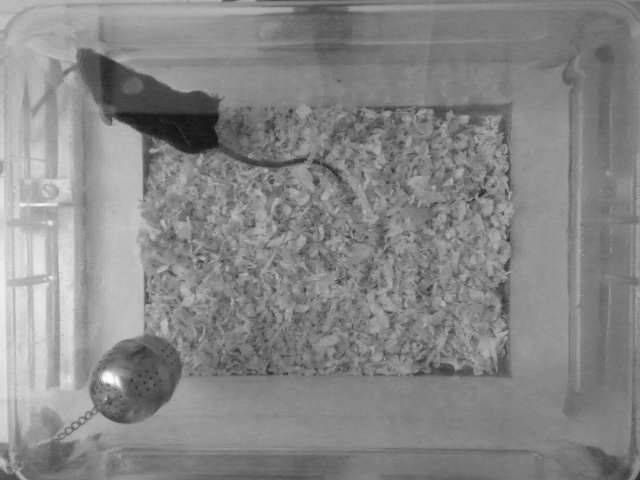mice: (74, 43, 352, 196)
